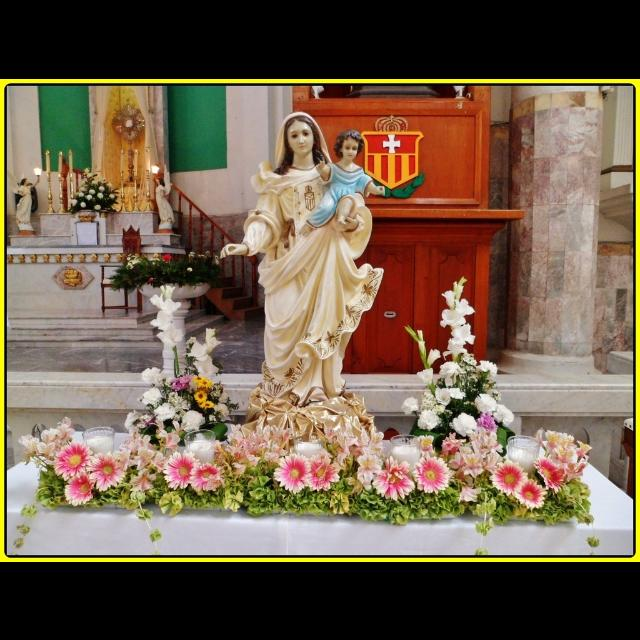Flower: (15, 284, 593, 510), (67, 167, 117, 209), (271, 454, 313, 490), (190, 251, 218, 263), (126, 252, 140, 270), (148, 258, 160, 264), (164, 253, 172, 261), (184, 265, 192, 269)
